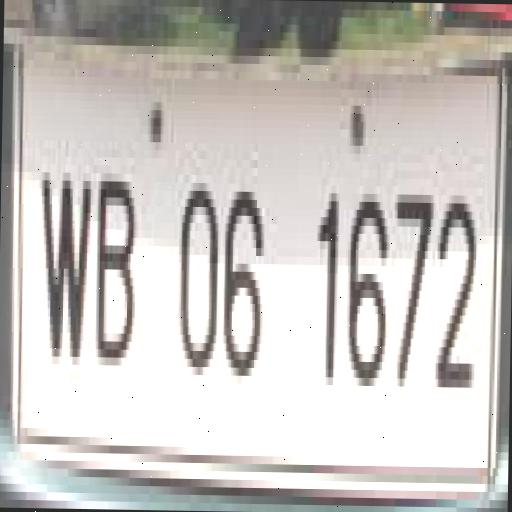number plate: (0, 43, 494, 476)
